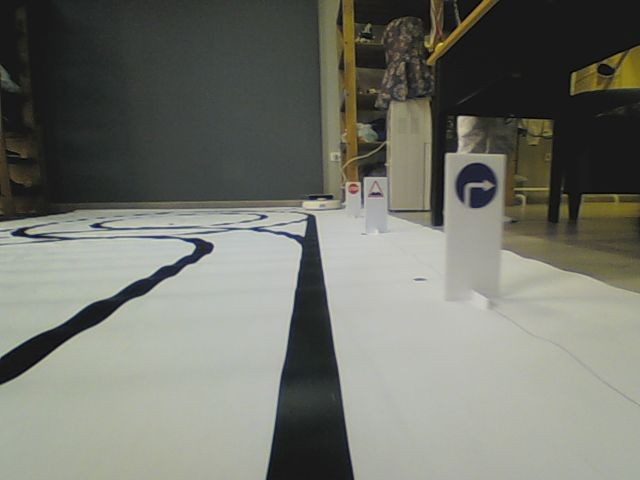Nerov: (367, 179, 384, 198)
Right: (452, 160, 498, 209)
